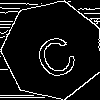C: (27, 25, 81, 82)
